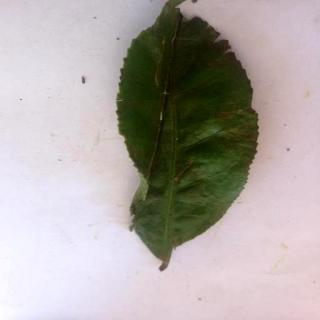Brown Blight: (118, 1, 261, 273)
